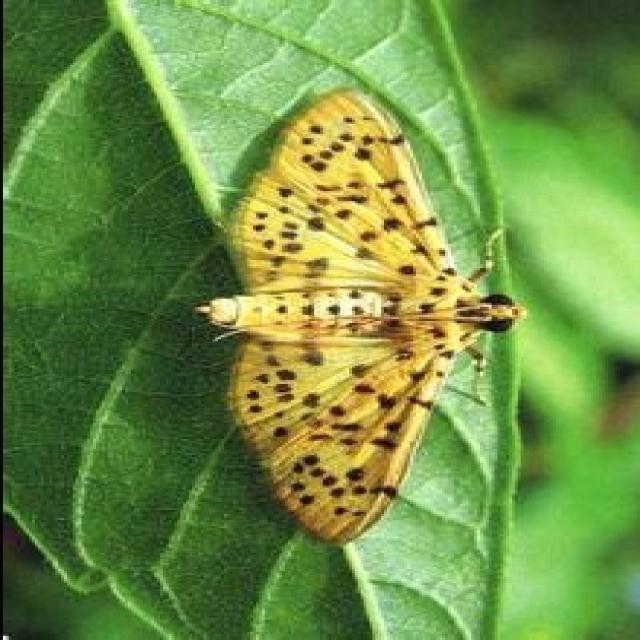peach borer: (192, 89, 526, 548)
